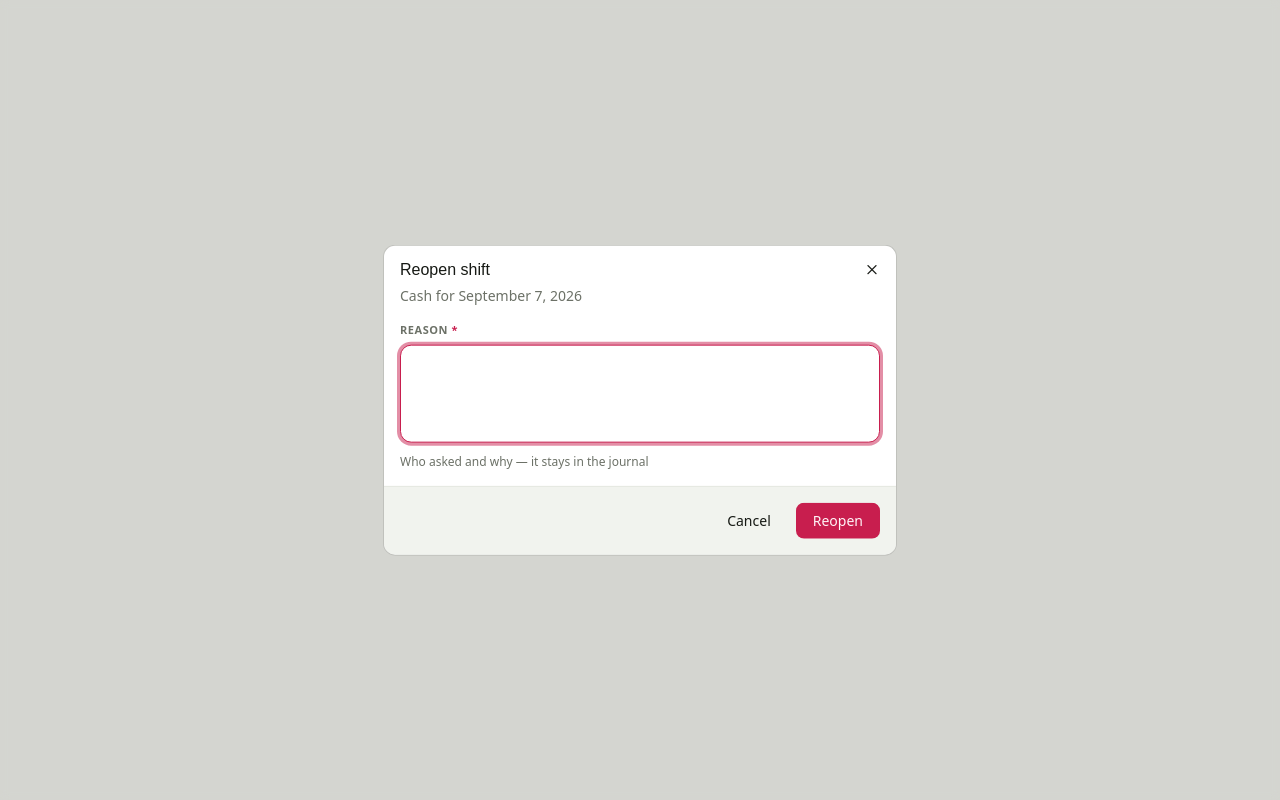
Scenario: ReopenShiftDialog › shows the mapped banner and stays open when the server refuses
In the text box labelled "Reason": (640, 393) [400,344,880,442], type "Closed by mistake"
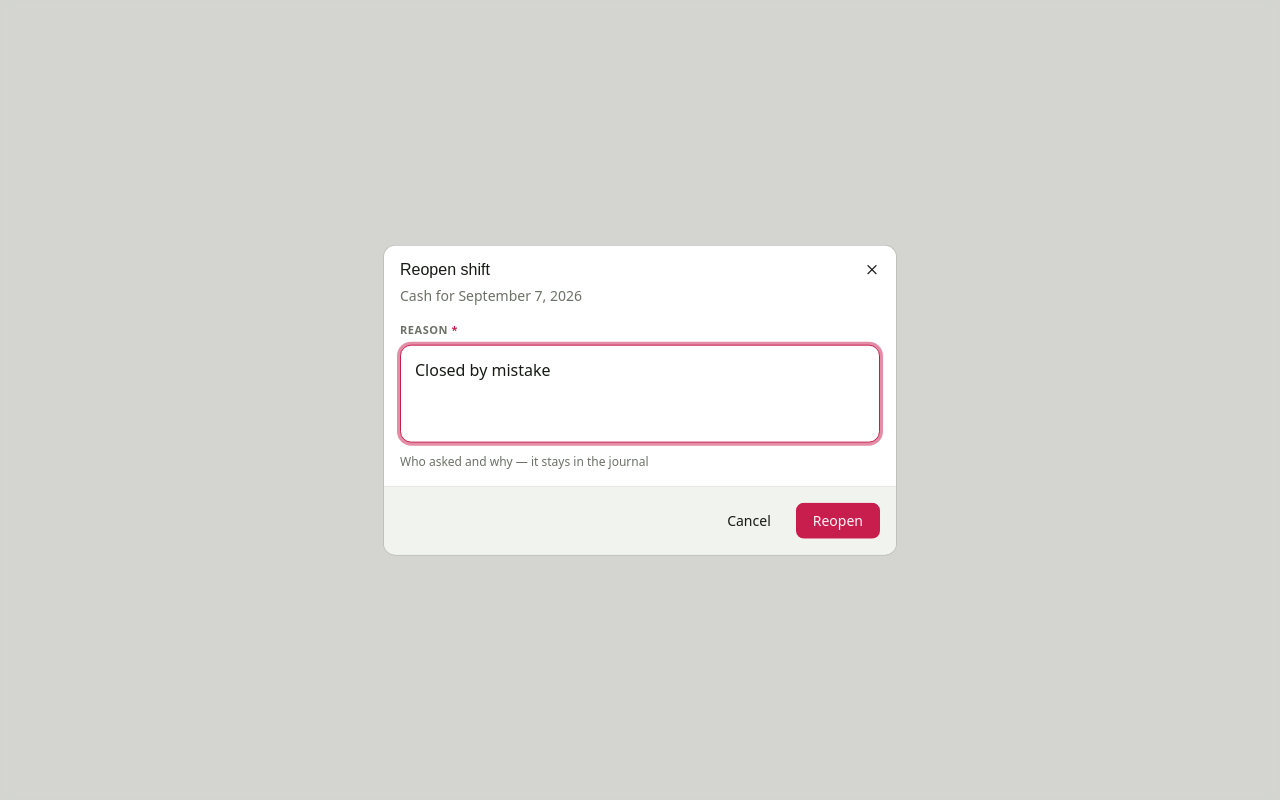
Click the button "Reopen": (838, 520) [796,502,880,538]
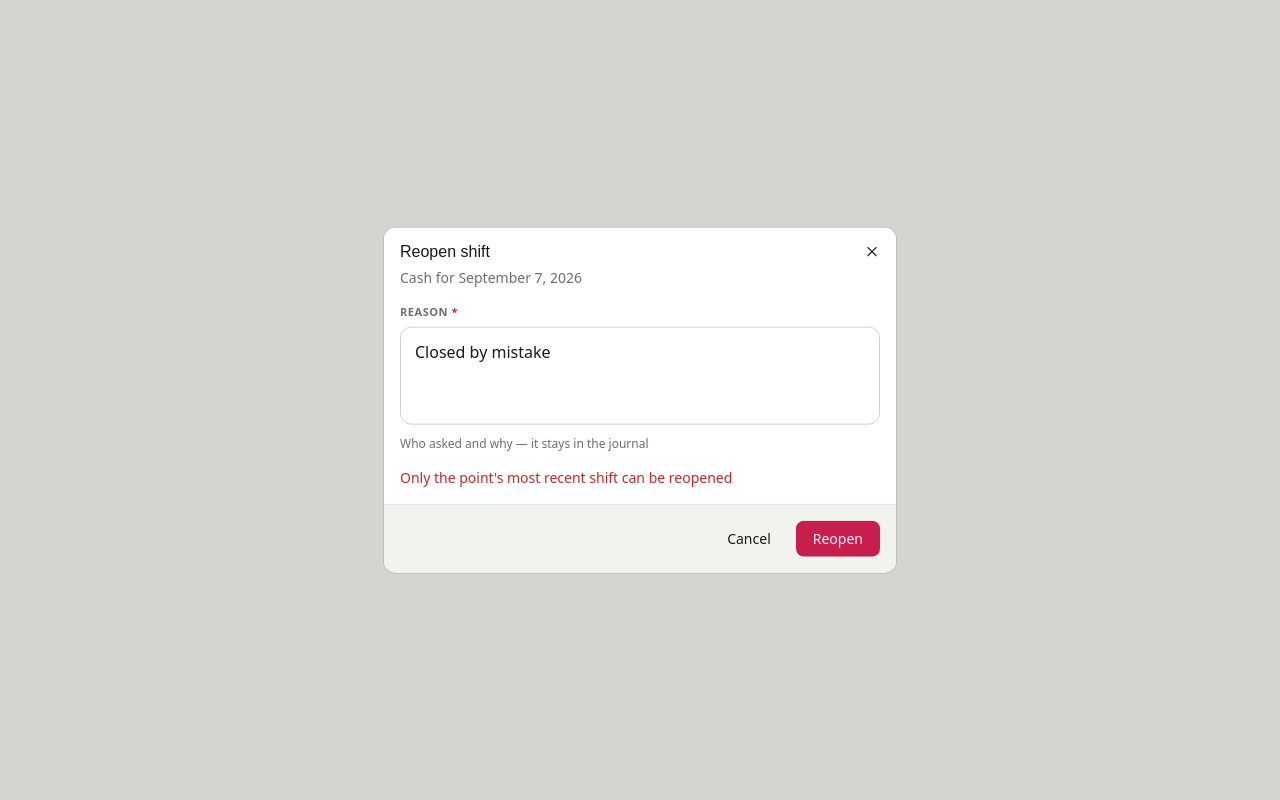
Check: the text "Only the point's most recent shift can be reopened" is shown, box [400,467,732,486]
